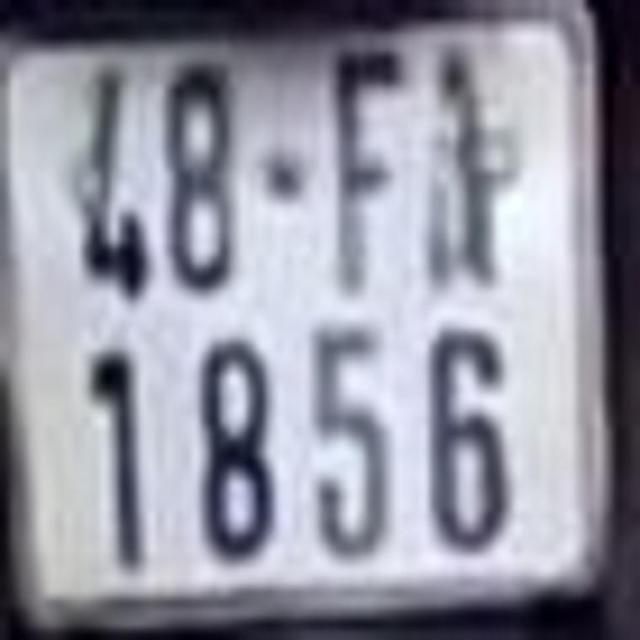1: (82, 349, 156, 570)
4: (79, 71, 153, 306)
5: (301, 322, 395, 572)
6: (423, 316, 508, 559)
8: (194, 337, 287, 568), (161, 63, 245, 286)
F: (330, 55, 393, 299)
